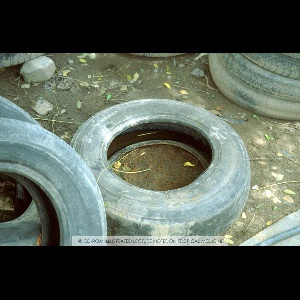tire: (69, 98, 251, 247), (1, 116, 107, 246)
